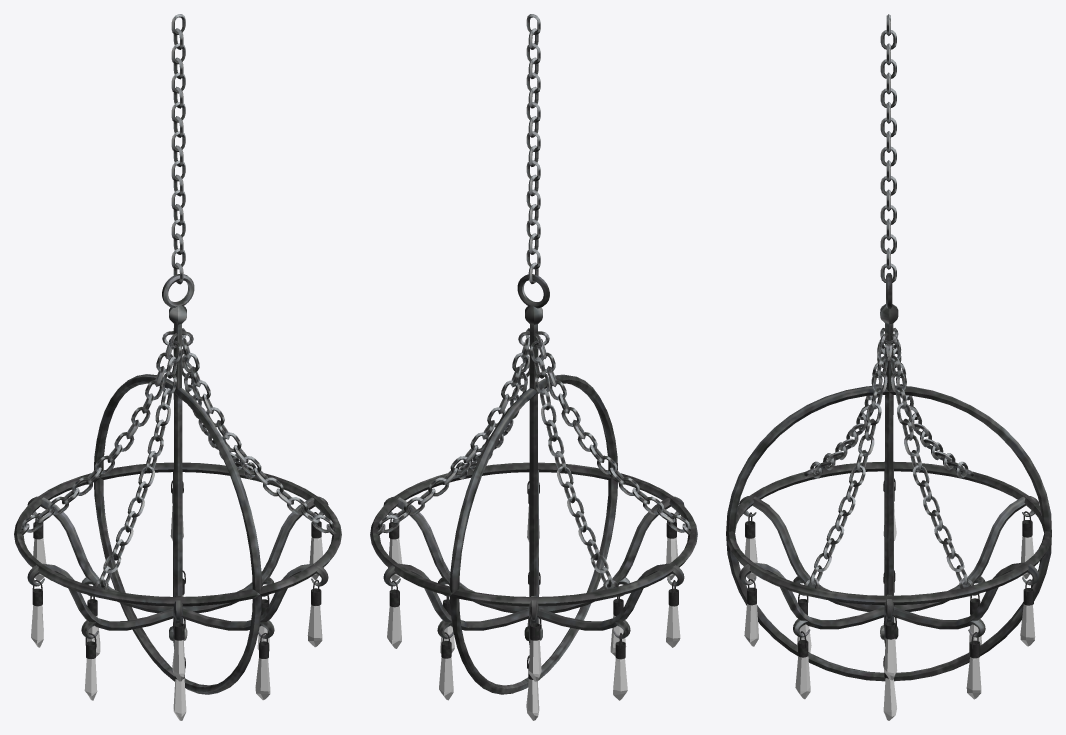
Rendered from Chandelier_White.fbx.
3 views of the same model, side by side, from view 1: azimuth 30°, elevation 25°; view 2: azimuth 150°, elevation 25°; view 3: azimuth 270°, elevation 25° (orthographic).
Visible parts, largest first — view 1: Chandelier, Chain_chandelier, Crystals, Holders; view 2: Chandelier, Chain_chandelier, Crystals, Holders; view 3: Chandelier, Chain_chandelier, Crystals, Holders.
Boxes of the visible parts, x1,y1,x2,y2 form: Chandelier: [14, 274, 341, 694]; Chain_chandelier: [19, 14, 336, 590]; Crystals: [31, 504, 324, 720]; Holders: [32, 480, 321, 679]; Chandelier: [370, 274, 697, 694]; Chain_chandelier: [375, 14, 692, 590]; Crystals: [387, 504, 680, 720]; Holders: [389, 481, 678, 679]; Chandelier: [726, 273, 1051, 681]; Chain_chandelier: [804, 14, 974, 588]; Crystals: [743, 503, 1035, 720]; Holders: [745, 478, 1033, 678].
Bounding box in the file's own units: 1601 × 3419 × 1514.
